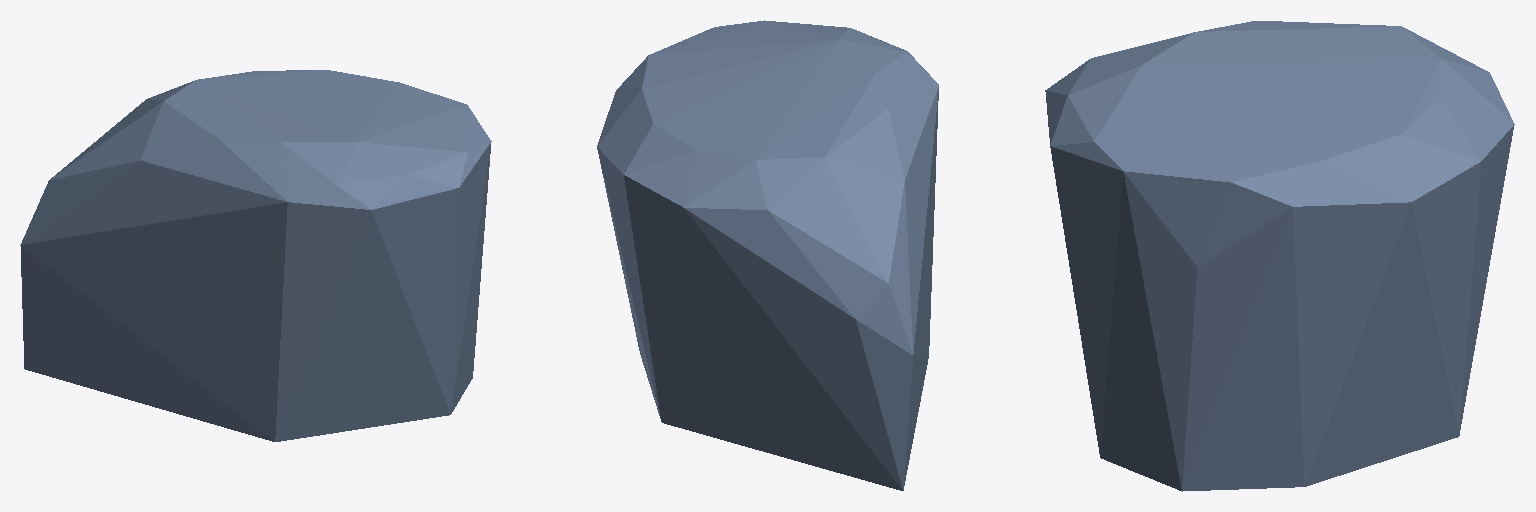
The robot description file, URDF, robot "obj_01":
<?xml version="1.0"?>
<robot name="obj_01">
  <!-- white mug: ceramic, 263 g. Written by Darius 0.2.0. Link frame: +z up, origin at the capture-time bounding-box center; place it at the pose in world.json -->
  <mujoco>
    <compiler meshdir="../meshes/" discardvisual="true" balanceinertia="true" fusestatic="false" />
  </mujoco>
  <link name="obj_01">
    <inertial>
      <origin xyz="0.005 0.00281 -0.00111" rpy="0 0 0" />
      <mass value="0.2634" />
      <inertia ixx="0.000392634" ixy="6.91814e-05" ixz="-1.75888e-05" iyy="0.000390793" iyz="1.59607e-05" izz="0.000425159" />
    </inertial>
    <visual>
      <geometry>
        <mesh filename="../meshes/obj_01_visual.obj" />
      </geometry>
      <material name="obj_01_color">
        <color rgba="0.494 0.565 0.667 1" />
      </material>
    </visual>
    <collision name="obj_01">
      <geometry>
        <mesh filename="../meshes/obj_01.obj" />
      </geometry>
    </collision>
    <contact>
      <lateral_friction value="0.5" />
      <restitution value="0.1" />
    </contact>
  </link>
</robot>

--- Render facts (derived) ---
The picture shows the robot from 3 angles, left to right: view 1: azimuth 30°, elevation 25°; view 2: azimuth 150°, elevation 25°; view 3: azimuth 270°, elevation 25°; orthographic projection.
Robot: obj_01 — 1 links, 0 joints (none); root link obj_01; default pose: every joint at zero.
Links seen in each view (by area): view 1: obj_01; view 2: obj_01; view 3: obj_01.
Boxes of the visible links, x1=… form: obj_01: x1=20, y1=70, x2=491, y2=441; obj_01: x1=597, y1=20, x2=938, y2=490; obj_01: x1=1045, y1=21, x2=1514, y2=491.
Size in the robot's own frame: 0.1054 by 0.0971 by 0.0793 metres.
Meshes: 1 distinct files referenced, 1 mesh visuals loaded (1 OBJ).
